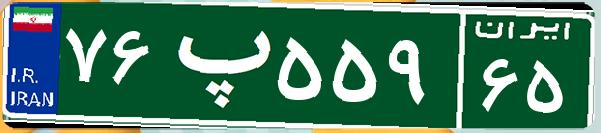5: (273, 28, 330, 110), (330, 28, 385, 110), (525, 38, 570, 115)
6: (475, 38, 525, 113), (110, 28, 158, 105)
7: (57, 26, 110, 107)
9: (385, 28, 445, 110)
پ: (158, 15, 273, 115)
